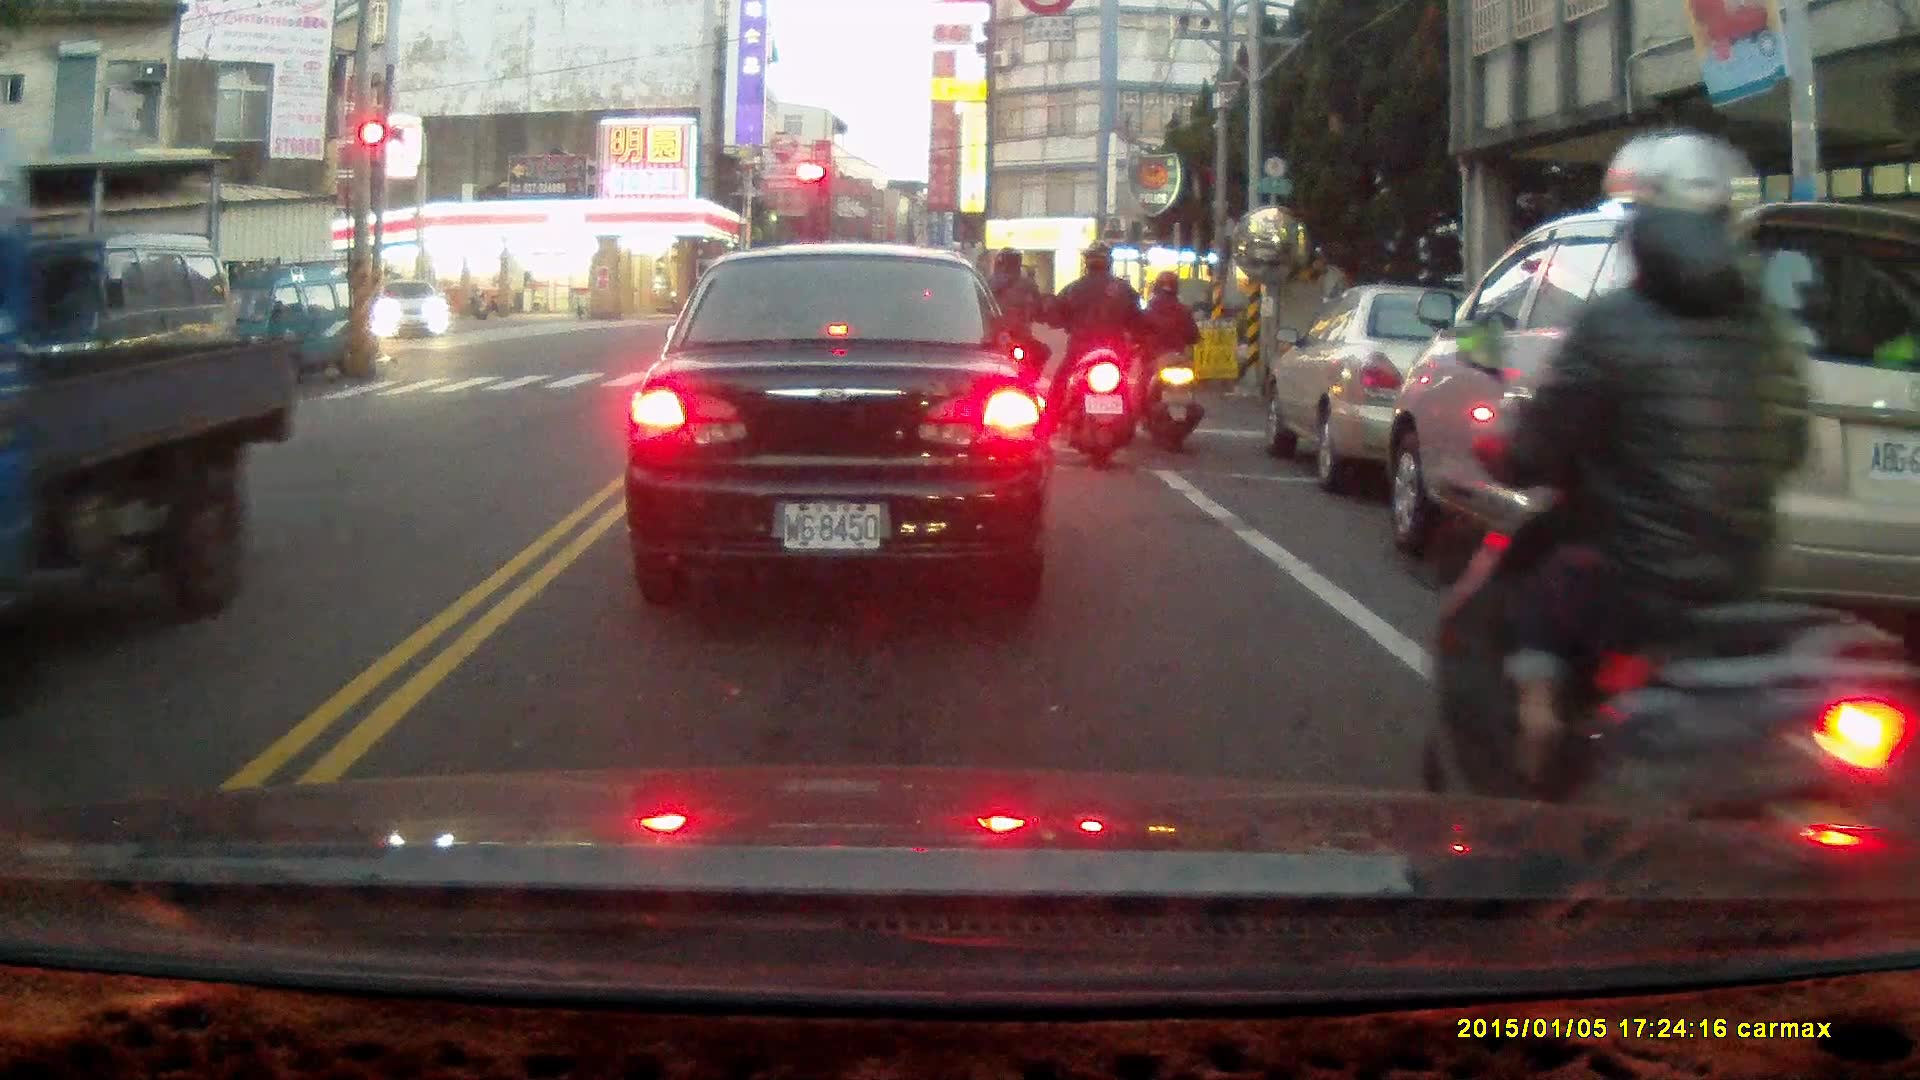rider: (1420, 127, 1905, 977), (1044, 242, 1142, 468), (964, 252, 1048, 432), (1134, 271, 1204, 451)
vehicle: (1379, 200, 1920, 684), (635, 248, 1045, 600), (1, 276, 304, 651), (1261, 287, 1583, 493), (196, 263, 385, 395), (372, 277, 451, 343)
